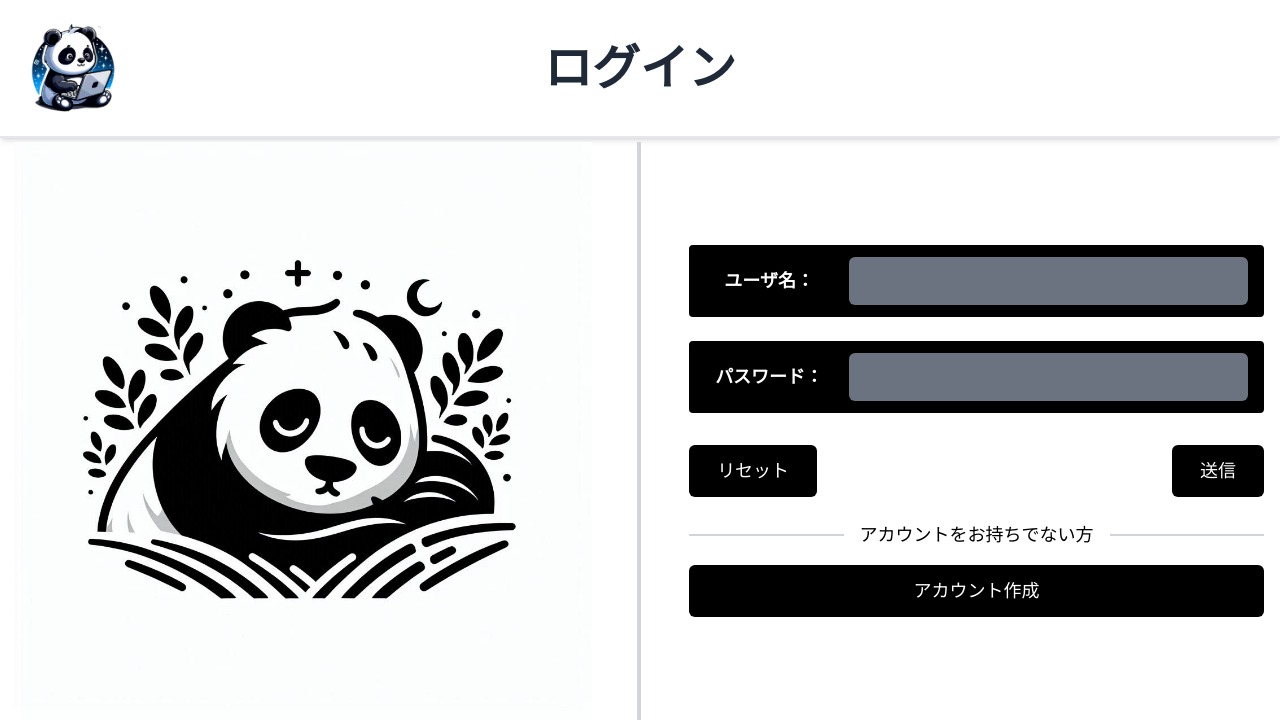
Test: Login › フォーム送信処理 › ネットワークエラーが発生した場合にエラーメッセージが表示される
This screenshot has width=1280, height=720.
// フォームに値を入力
In the field with test id "username": (1049, 281) [849, 257, 1248, 305], type "testuser"
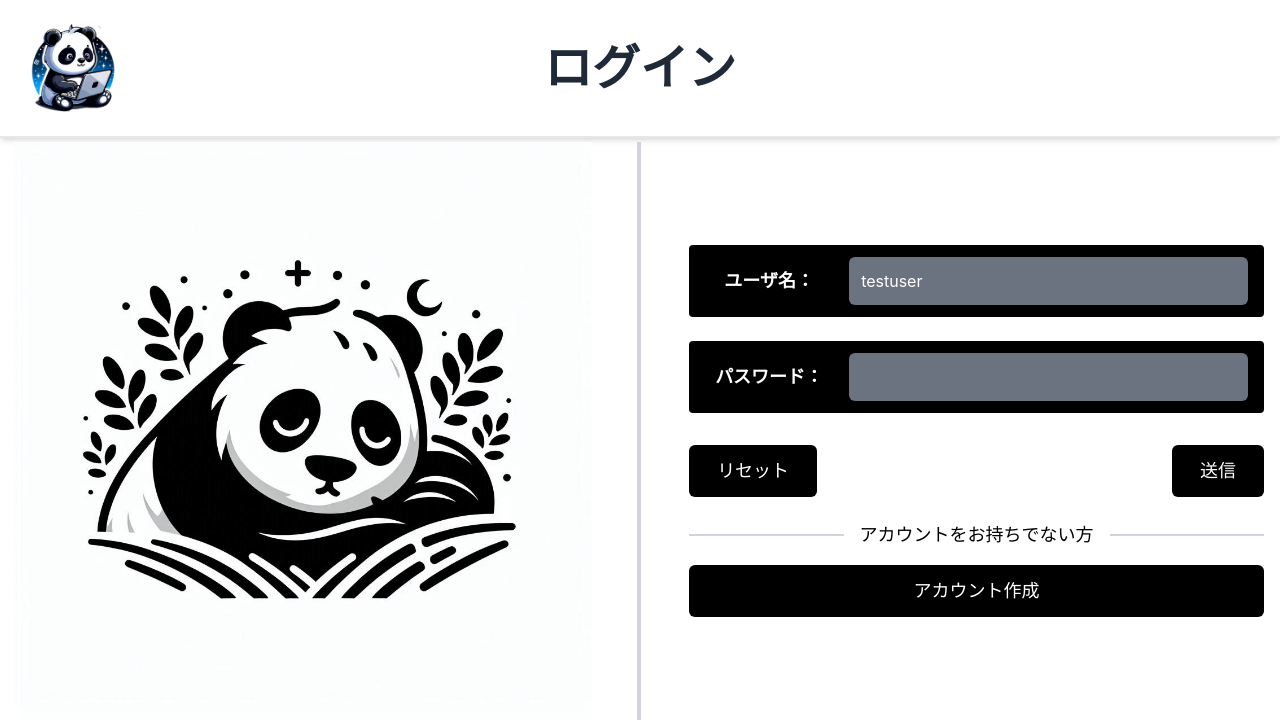
In the password field with test id "password": (1049, 377) [849, 353, 1248, 401], type "password123"
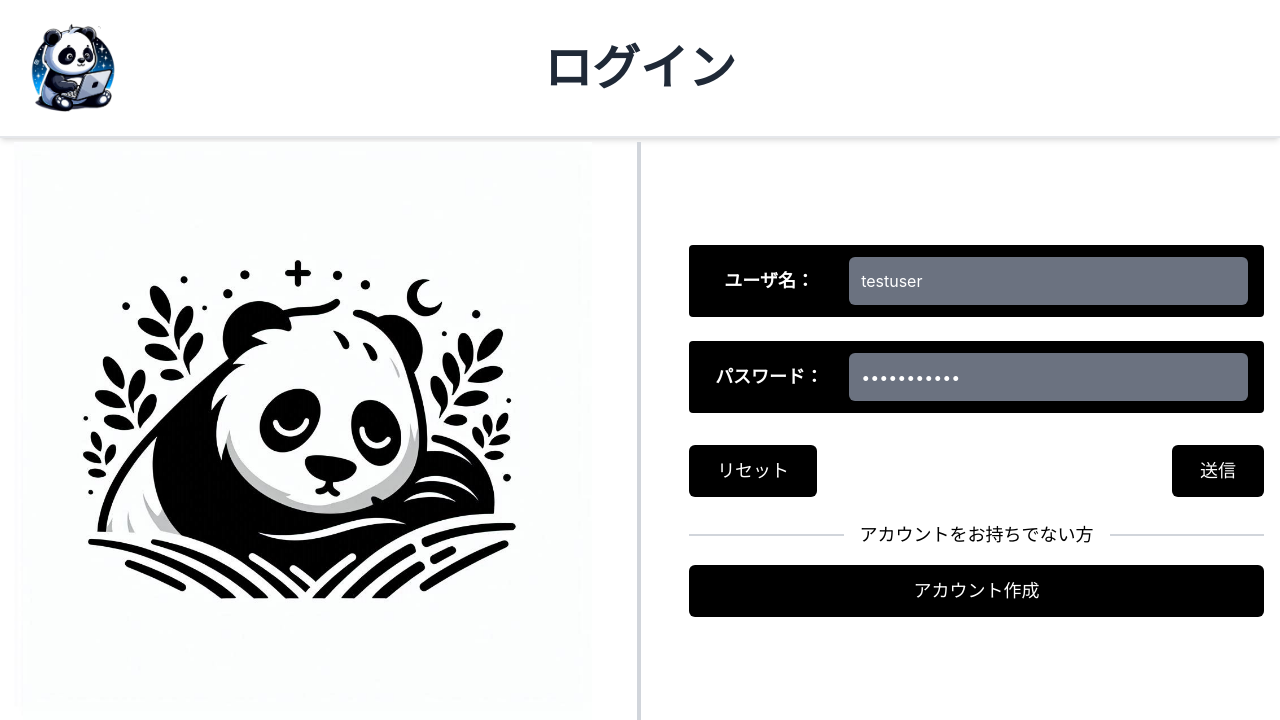
//  フォームを送信
Submit the form, box [689, 245, 1264, 617]
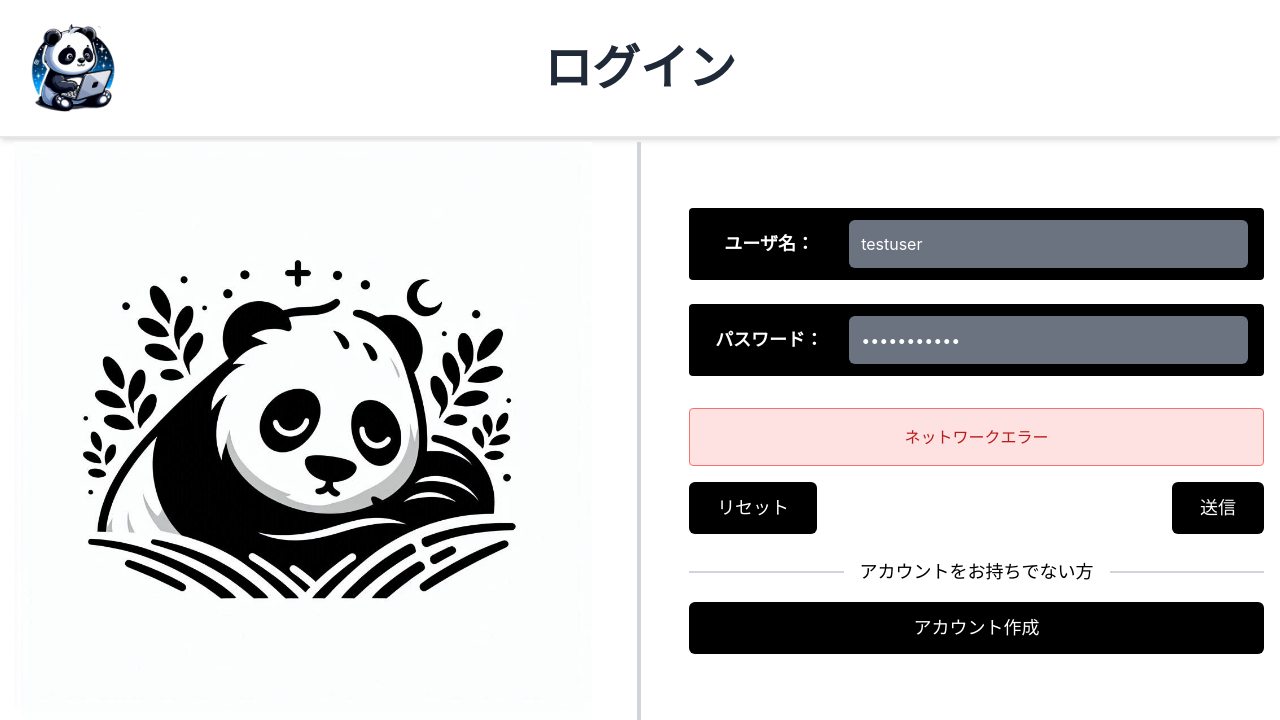
expect the message with test id "error-message" reads "ネットワークエラー": met, box [904, 427, 1048, 447]
